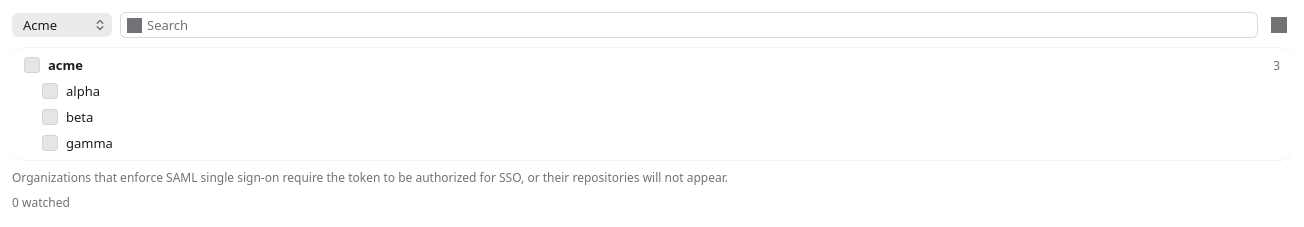
Test: selecting and saving › saves a pick after a pause and reloads the settings
Click the option "alpha". click: (71, 91)
box: [42, 82, 100, 100]
Wait 701 ms
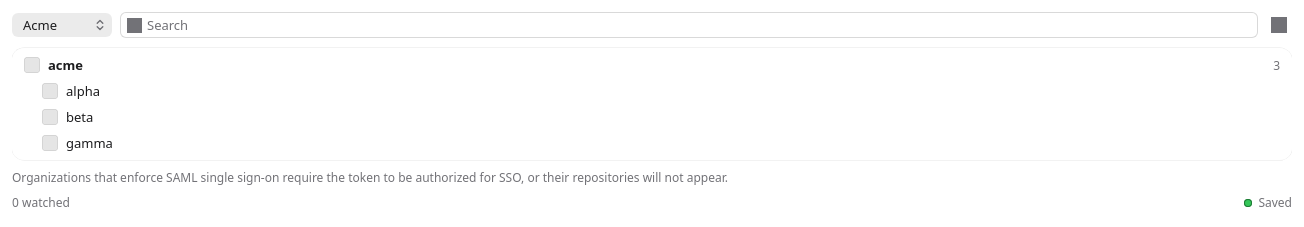
Expected: the text "1 watched" is shown, [12, 195, 70, 210]
Result: the text "Saved" is shown at [1244, 195, 1292, 210]
